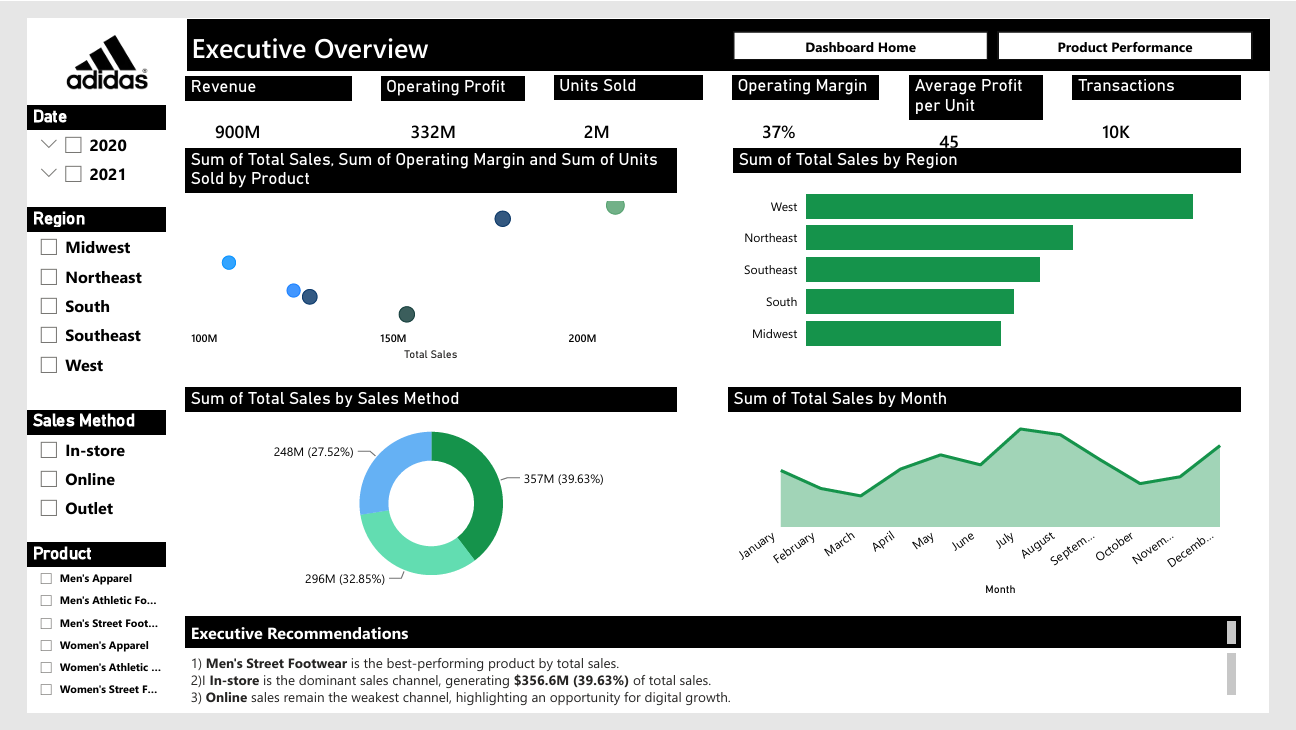

What the dashboard file says about the page in this screenshot:
{"tool":"powerbi","page":{"name":"Executive Overview","canvas":[1280,720],"ordinal":1},"visuals":[{"type":"shape","box":[26.7,16.7,1226.7,686.7],"z":0},{"type":"image","box":[28.3,16.7,155,86.7],"z":1000},{"type":"slicer","title":"Date","fields":{"Values":["Data Sales Adidas.Invoice Date.Variation.Date Hierarchy.Year","Data Sales Adidas.Invoice Date.Variation.Date Hierarchy.Quarter","Data Sales Adidas.Invoice Date.Variation.Date Hierarchy.Month"]},"box":[27.1,103.3,136.7,86.7],"z":2000},{"type":"slicer","title":"Region","fields":{"Values":["Data Sales Adidas.Region"]},"box":[27.1,204.4,136.7,185],"z":3000},{"type":"slicer","title":"Sales Method","fields":{"Values":["Data Sales Adidas.Sales Method"]},"box":[27.1,403.9,136.7,116.7],"z":4000},{"type":"slicer","title":"Product","fields":{"Values":["Data Sales Adidas.Product"]},"box":[27.1,535,136.7,168.3],"z":5000},{"type":"textbox","box":[183.3,608.3,1041.7,31.7],"z":6000},{"type":"textbox","box":[183.3,640,1041.7,63.3],"z":7000},{"type":"cardVisual","fields":{"Data":["Data Sales Adidas.Dynamic Tital"]},"box":[166.7,0,1105,86.7],"z":8000},{"type":"cardVisual","title":"Revenue","fields":{"Data":["Sum(Data Sales Adidas.Total Sales)"]},"box":[182.9,73.7,163.8,87.5],"z":9000},{"type":"cardVisual","title":"Operating Profit","fields":{"Data":["Sum(Data Sales Adidas.Operating Profit)"]},"box":[376.3,73.7,141.6,87.5],"z":10000},{"type":"cardVisual","title":"Units Sold","fields":{"Data":["Sum(Data Sales Adidas.Units Sold)"]},"box":[547.5,72.9,146.3,89.1],"z":11000},{"type":"cardVisual","title":"Operating Margin","fields":{"Data":["Data Sales Adidas.profit margin"]},"box":[723.4,72.9,144.7,89.1],"z":12000},{"type":"cardVisual","title":"Average Profit per Unit","fields":{"Data":["Avg(Data Sales Adidas.Price per Unit)"]},"box":[897.7,72.9,132,89.1],"z":13000},{"type":"cardVisual","title":"Transactions","fields":{"Data":["Data Sales Adidas.transaction"]},"box":[1059.3,72.9,165.4,89.1],"z":14000},{"type":"donutChart","fields":{"Category":["Data Sales Adidas.Sales Method"],"Y":["Sum(Data Sales Adidas.Total Sales)"]},"box":[182.9,381.7,485.1,210],"z":15000},{"type":"barChart","fields":{"Category":["Data Sales Adidas.Region"],"Y":["Sum(Data Sales Adidas.Total Sales)"]},"box":[723.7,146.3,501,213.1],"z":16000},{"type":"areaChart","fields":{"Category":["Data Sales Adidas.Invoice Date.Variation.Date Hierarchy.Month"],"Y":["Sum(Data Sales Adidas.Total Sales)"]},"box":[719,381.7,505.8,210],"z":17000},{"type":"scatterChart","fields":{"Series":["Data Sales Adidas.Product"],"Size":["Sum(Data Sales Adidas.Units Sold)"],"X":["Sum(Data Sales Adidas.Total Sales)"],"Y":["Sum(Data Sales Adidas.Operating Margin)"]},"box":[182.9,146.3,485.1,213.1],"z":18000},{"type":"pageNavigator","box":[724,30,512,28],"z":19000}]}

Visuals, with their boxes in screenshot pixels (x1, y1, x2, y2), scaled from the page's 1280x720 canvas onto the 1296x730 screenshot:
shape: <region>27, 17, 1269, 713</region>
image: <region>29, 17, 186, 105</region>
"Date" slicer: <region>27, 105, 166, 193</region>
"Region" slicer: <region>27, 207, 166, 395</region>
"Sales Method" slicer: <region>27, 410, 166, 528</region>
"Product" slicer: <region>27, 542, 166, 713</region>
textbox: <region>186, 617, 1240, 649</region>
textbox: <region>186, 649, 1240, 713</region>
cardVisual - Data Sales Adidas.Dynamic Tital: <region>169, 0, 1288, 88</region>
"Revenue" cardVisual: <region>185, 75, 351, 163</region>
"Operating Profit" cardVisual: <region>381, 75, 524, 163</region>
"Units Sold" cardVisual: <region>554, 74, 702, 164</region>
"Operating Margin" cardVisual: <region>732, 74, 879, 164</region>
"Average Profit per Unit" cardVisual: <region>909, 74, 1043, 164</region>
"Transactions" cardVisual: <region>1073, 74, 1240, 164</region>
donutChart - Data Sales Adidas.Sales Method x Sum(Data Sales Adidas.Total Sales): <region>185, 387, 676, 600</region>
barChart - Data Sales Adidas.Region x Sum(Data Sales Adidas.Total Sales): <region>733, 148, 1240, 364</region>
areaChart - Data Sales Adidas.Invoice Date.Variation.Date Hierarchy.Month x Sum(Data Sales Adidas.Total Sales): <region>728, 387, 1240, 600</region>
scatterChart - Data Sales Adidas.Product x Sum(Data Sales Adidas.Units Sold): <region>185, 148, 676, 364</region>
pageNavigator: <region>733, 30, 1251, 59</region>
